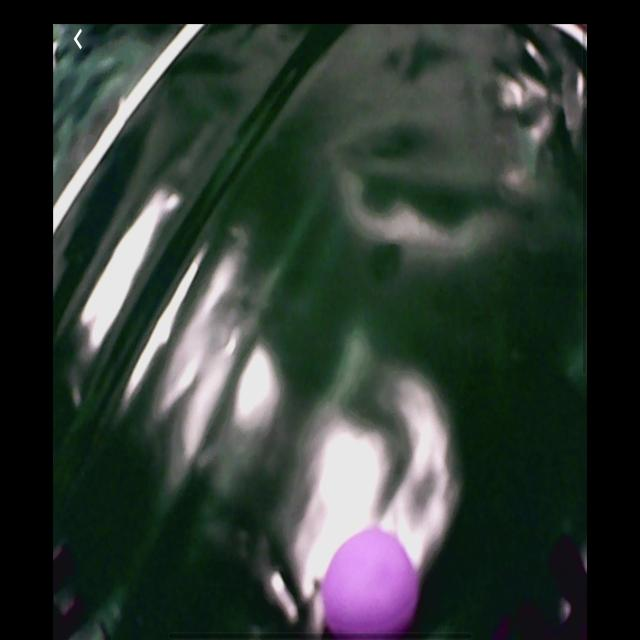ball: (324, 527, 421, 637)
